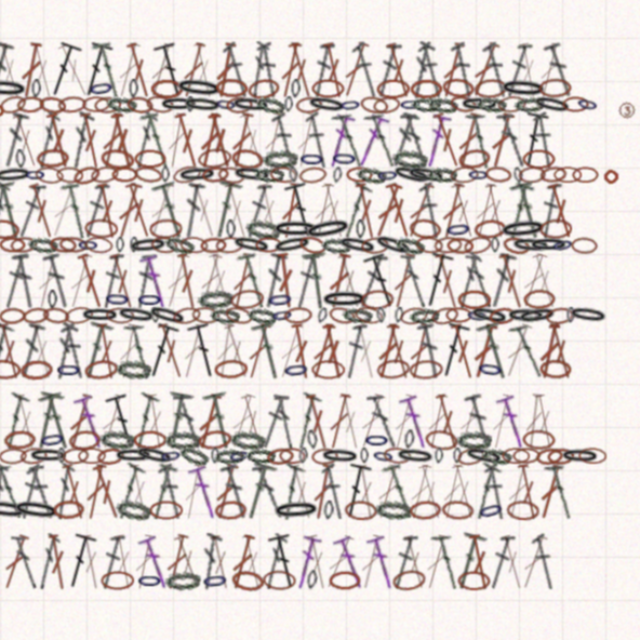chain: (320, 204, 367, 230), (50, 465, 97, 489), (201, 75, 247, 98), (21, 465, 67, 488), (384, 219, 423, 245), (501, 76, 547, 98), (501, 206, 547, 228), (401, 155, 440, 179), (175, 285, 214, 309), (21, 77, 67, 97), (291, 467, 337, 487), (163, 415, 202, 438), (531, 91, 570, 113), (351, 221, 390, 243), (473, 286, 512, 308), (468, 416, 507, 438), (253, 221, 292, 242), (291, 221, 330, 242), (291, 208, 336, 226), (336, 273, 381, 291), (146, 465, 181, 488), (266, 206, 301, 228), (323, 92, 361, 112), (415, 157, 453, 177), (518, 287, 556, 307), (402, 530, 435, 553), (132, 141, 165, 163), (252, 271, 285, 293), (117, 336, 150, 358), (222, 401, 255, 423), (432, 401, 465, 423), (254, 157, 292, 176), (147, 287, 185, 306), (565, 287, 603, 306), (222, 271, 256, 292), (204, 415, 235, 438), (268, 76, 300, 98), (253, 141, 285, 163), (463, 141, 495, 163), (253, 531, 285, 553), (222, 141, 255, 162), (208, 93, 246, 111), (253, 93, 291, 111), (33, 158, 71, 176), (158, 223, 196, 241), (512, 223, 550, 241), (405, 418, 443, 436), (282, 142, 316, 162), (402, 142, 436, 162), (252, 402, 286, 422), (192, 532, 226, 552), (448, 76, 480, 97), (388, 336, 420, 357), (480, 465, 508, 489), (418, 206, 449, 227), (478, 77, 510, 97), (373, 272, 405, 292), (418, 337, 450, 357), (358, 467, 390, 487), (191, 221, 221, 242), (204, 158, 241, 175), (147, 337, 180, 356), (132, 402, 165, 421), (387, 467, 420, 486), (28, 207, 59, 227), (478, 207, 509, 227), (58, 337, 89, 357), (43, 402, 74, 422), (103, 402, 134, 422), (238, 467, 269, 487), (418, 467, 449, 487), (448, 467, 479, 487), (508, 467, 539, 487), (106, 156, 134, 178), (275, 92, 305, 112), (404, 222, 434, 242), (192, 403, 225, 421), (462, 403, 495, 421), (508, 289, 545, 305), (336, 419, 373, 435), (558, 419, 595, 435), (538, 77, 569, 96), (73, 142, 104, 161), (118, 207, 149, 226), (178, 207, 209, 226), (28, 337, 59, 356), (238, 337, 269, 356), (523, 402, 554, 421), (88, 467, 119, 486), (283, 532, 314, 551), (38, 91, 66, 112), (199, 156, 227, 177), (315, 221, 343, 242), (468, 221, 496, 242), (239, 77, 269, 96), (539, 207, 569, 226), (524, 272, 554, 291), (539, 337, 569, 356), (120, 76, 147, 97), (480, 336, 507, 357), (75, 401, 102, 422), (372, 92, 400, 112), (199, 287, 227, 307), (247, 287, 275, 307), (409, 287, 437, 307), (462, 417, 490, 437), (328, 78, 359, 96), (388, 78, 419, 96), (523, 143, 554, 161), (463, 273, 494, 291), (328, 338, 359, 356), (163, 403, 194, 421), (178, 468, 209, 486), (133, 533, 164, 551), (463, 533, 494, 551), (187, 94, 224, 109), (465, 94, 502, 109), (529, 224, 566, 239), (114, 289, 151, 304), (66, 419, 103, 434), (145, 419, 182, 434), (179, 78, 209, 96), (419, 78, 449, 96), (164, 143, 194, 161), (504, 222, 531, 242), (343, 287, 370, 307), (438, 287, 465, 307), (344, 533, 374, 551), (174, 92, 202, 111), (123, 157, 151, 176), (163, 157, 191, 176), (99, 287, 127, 306), (367, 287, 395, 306), (435, 93, 464, 111), (369, 158, 398, 176), (268, 288, 297, 306), (418, 288, 447, 306), (485, 418, 514, 436), (451, 207, 477, 227), (286, 272, 312, 292), (301, 337, 327, 357), (226, 532, 252, 552), (455, 92, 482, 111), (138, 93, 167, 110), (480, 93, 509, 110), (515, 93, 544, 110), (65, 223, 94, 240), (356, 288, 385, 305), (75, 93, 102, 111), (156, 93, 183, 111), (384, 93, 411, 111), (72, 158, 99, 176), (316, 158, 343, 176), (60, 288, 87, 306), (491, 288, 518, 306), (544, 288, 571, 306), (346, 142, 371, 161), (136, 272, 161, 291), (241, 158, 267, 176), (79, 288, 105, 306), (129, 418, 155, 436), (286, 418, 312, 436), (535, 418, 561, 436), (93, 93, 120, 110), (500, 93, 527, 110), (456, 158, 483, 175), (94, 223, 121, 240), (118, 223, 145, 240), (206, 223, 233, 240), (239, 223, 266, 240), (441, 223, 468, 240), (217, 288, 244, 305), (302, 288, 329, 305), (394, 418, 421, 435), (316, 143, 341, 161), (166, 273, 191, 291), (91, 338, 116, 356), (376, 403, 401, 421), (166, 533, 191, 551), (337, 224, 365, 240), (234, 289, 262, 305), (238, 419, 266, 435), (55, 93, 81, 110), (226, 158, 252, 175), (289, 158, 315, 175), (488, 158, 514, 175), (519, 158, 545, 175), (539, 158, 565, 175), (49, 223, 75, 240), (85, 223, 111, 240), (179, 223, 205, 240), (424, 223, 450, 240), (58, 418, 84, 435), (97, 418, 123, 435), (572, 92, 595, 111), (549, 222, 572, 241), (250, 417, 273, 436), (420, 94, 448, 109), (275, 159, 303, 174), (435, 159, 463, 174), (267, 419, 295, 434), (313, 94, 339, 110), (374, 224, 400, 240), (138, 289, 164, 305), (39, 419, 65, 435), (470, 288, 493, 306), (383, 418, 406, 436), (127, 94, 152, 110), (249, 94, 274, 110), (92, 159, 117, 175), (225, 224, 250, 240), (453, 224, 478, 240), (568, 224, 593, 240), (39, 289, 64, 305), (328, 419, 353, 435), (546, 419, 571, 435), (116, 94, 142, 109), (552, 159, 578, 174), (112, 419, 138, 434), (504, 419, 530, 434), (514, 419, 540, 434), (575, 419, 601, 434), (560, 94, 585, 109), (143, 159, 168, 174), (360, 159, 385, 174), (569, 159, 594, 174), (39, 224, 64, 239), (276, 224, 301, 239), (452, 289, 477, 304), (298, 419, 323, 434), (238, 93, 260, 110), (290, 288, 312, 305), (187, 418, 209, 435), (353, 94, 375, 110), (388, 159, 409, 175), (409, 94, 430, 109), (62, 159, 83, 174), (472, 159, 493, 174), (111, 224, 132, 239), (323, 402, 335, 421), (413, 402, 424, 421), (323, 532, 334, 551), (332, 289, 344, 305), (54, 143, 64, 161), (339, 468, 349, 486), (514, 159, 525, 175), (69, 78, 78, 96), (159, 78, 168, 96), (309, 78, 318, 96), (249, 208, 258, 226), (369, 208, 378, 226), (84, 273, 93, 291), (347, 159, 357, 175), (404, 289, 414, 304), (307, 159, 316, 174), (179, 289, 188, 304), (388, 289, 397, 304), (316, 419, 325, 434), (212, 94, 220, 109), (303, 94, 311, 109), (189, 159, 197, 174), (147, 224, 155, 239), (160, 224, 168, 239), (494, 224, 502, 239), (564, 289, 572, 304), (93, 419, 101, 434), (235, 419, 243, 434), (373, 419, 381, 434), (442, 419, 450, 434), (459, 419, 467, 434)
double: (80, 42, 117, 98), (180, 172, 217, 228), (375, 237, 412, 293), (480, 302, 517, 358), (75, 367, 112, 423), (510, 302, 547, 357), (511, 172, 547, 228), (171, 302, 207, 358), (136, 367, 172, 423), (261, 432, 297, 488), (90, 43, 127, 97), (111, 42, 146, 98), (181, 42, 216, 98), (111, 302, 146, 358), (456, 497, 491, 553), (471, 42, 506, 97), (346, 107, 381, 162), (376, 107, 411, 162), (351, 172, 386, 227), (31, 432, 66, 487), (96, 497, 131, 552), (32, 172, 66, 228), (272, 302, 306, 358), (366, 108, 401, 162), (336, 498, 371, 552), (437, 107, 471, 162), (82, 172, 116, 227), (302, 172, 336, 227), (427, 237, 461, 292), (212, 302, 246, 357), (442, 302, 476, 357), (502, 302, 536, 357), (227, 367, 261, 422), (142, 432, 176, 487), (392, 432, 426, 487), (197, 497, 231, 552), (382, 173, 416, 227), (122, 433, 156, 487), (347, 498, 381, 552), (352, 42, 385, 97), (152, 172, 185, 227), (232, 172, 265, 227), (517, 237, 550, 292), (182, 302, 215, 357), (67, 367, 100, 422), (367, 367, 400, 422), (287, 497, 320, 552), (542, 43, 575, 97), (412, 173, 445, 227), (107, 368, 140, 422), (167, 498, 200, 552), (517, 498, 550, 552), (168, 107, 200, 162), (173, 172, 205, 227), (213, 172, 245, 227), (393, 172, 425, 227), (503, 172, 535, 227), (188, 367, 220, 422), (248, 367, 280, 422), (173, 432, 205, 487), (353, 432, 385, 487), (473, 432, 505, 487), (173, 43, 205, 97), (393, 43, 425, 97), (48, 108, 80, 162), (258, 108, 290, 162), (143, 173, 175, 227), (543, 173, 575, 227), (108, 238, 140, 292), (528, 238, 560, 292), (243, 303, 275, 357), (408, 368, 440, 422), (498, 368, 530, 422), (213, 433, 245, 487), (38, 498, 70, 552), (518, 107, 549, 162), (258, 237, 289, 292), (38, 367, 69, 422), (158, 367, 189, 422), (308, 367, 339, 422), (543, 432, 574, 487), (438, 497, 469, 552), (153, 43, 184, 97), (303, 43, 334, 97), (198, 108, 229, 162), (398, 108, 429, 162), (63, 173, 94, 227), (333, 173, 364, 227), (453, 173, 484, 227), (138, 238, 169, 292), (168, 238, 199, 292), (188, 238, 219, 292), (348, 238, 379, 292), (498, 238, 529, 292), (293, 303, 324, 357), (323, 303, 354, 357), (453, 303, 484, 357), (473, 303, 504, 357), (128, 368, 159, 422), (218, 368, 249, 422), (243, 433, 274, 487), (273, 433, 304, 487), (383, 433, 414, 487), (423, 433, 454, 487), (378, 498, 409, 552), (428, 498, 459, 552), (124, 42, 154, 97), (24, 302, 54, 357), (63, 433, 94, 486), (24, 43, 54, 97), (34, 43, 64, 97), (64, 43, 94, 97), (204, 43, 234, 97), (79, 108, 109, 162), (229, 108, 259, 162), (339, 108, 369, 162), (489, 108, 519, 162), (244, 173, 274, 227), (79, 238, 109, 292), (99, 238, 129, 292), (219, 238, 249, 292), (229, 238, 259, 292), (439, 238, 469, 292), (489, 238, 519, 292), (34, 303, 64, 357), (64, 303, 94, 357), (154, 303, 184, 357), (264, 303, 294, 357), (394, 303, 424, 357), (544, 303, 574, 357), (99, 368, 129, 422), (259, 368, 289, 422), (319, 368, 349, 422), (379, 368, 409, 422), (439, 368, 469, 422), (459, 368, 489, 422), (469, 368, 499, 422), (234, 433, 264, 487), (304, 433, 334, 487), (454, 433, 484, 487), (534, 433, 564, 487), (249, 498, 279, 552), (499, 498, 529, 552), (244, 43, 274, 96), (369, 238, 399, 291), (144, 43, 173, 97), (444, 43, 473, 97), (534, 43, 563, 97), (39, 108, 68, 162), (139, 108, 168, 162), (249, 108, 278, 162), (429, 108, 458, 162), (459, 108, 488, 162), (499, 108, 528, 162), (444, 173, 473, 227), (474, 173, 503, 227), (319, 238, 348, 292), (339, 238, 368, 292), (399, 238, 428, 292), (54, 303, 83, 357), (204, 303, 233, 357), (364, 303, 393, 357), (384, 303, 413, 357), (414, 303, 443, 357), (339, 368, 368, 422), (399, 368, 428, 422), (94, 433, 123, 487), (414, 433, 443, 487), (504, 433, 533, 487), (189, 498, 218, 552), (309, 498, 338, 552), (369, 498, 398, 552), (409, 498, 438, 552), (364, 43, 393, 96), (54, 173, 83, 226), (279, 368, 308, 421), (415, 43, 443, 97), (100, 108, 128, 162), (110, 108, 138, 162), (130, 108, 158, 162), (220, 108, 248, 162), (410, 108, 438, 162), (470, 108, 498, 162), (95, 173, 123, 227), (275, 173, 303, 227), (325, 173, 353, 227), (70, 238, 98, 292), (250, 238, 278, 292), (85, 303, 113, 357), (50, 368, 78, 422), (200, 368, 228, 422), (350, 368, 378, 422), (430, 368, 458, 422), (490, 368, 518, 422), (295, 433, 323, 487), (230, 498, 258, 552), (425, 43, 453, 96), (485, 43, 513, 96), (505, 43, 533, 96), (470, 238, 498, 291), (55, 43, 82, 97), (215, 43, 242, 97), (295, 43, 322, 97), (335, 43, 362, 97), (280, 108, 307, 162), (310, 108, 337, 162), (365, 173, 392, 227), (485, 173, 512, 227), (50, 238, 77, 292), (200, 238, 227, 292), (280, 238, 307, 292), (145, 303, 172, 357), (335, 303, 362, 357), (425, 303, 452, 357), (535, 303, 562, 357), (115, 433, 142, 487), (325, 433, 352, 487), (445, 433, 472, 487), (515, 433, 542, 487), (160, 498, 187, 552), (260, 498, 287, 552), (320, 498, 347, 552), (470, 498, 497, 552), (290, 108, 317, 161), (115, 173, 142, 226), (265, 173, 292, 226), (410, 238, 437, 291), (460, 238, 487, 291), (95, 303, 122, 356), (185, 433, 212, 486), (50, 498, 77, 551), (490, 498, 517, 551), (530, 498, 557, 551), (236, 43, 262, 97), (516, 43, 542, 97), (126, 173, 152, 227), (296, 173, 322, 227), (531, 368, 557, 422), (156, 433, 182, 487), (206, 433, 232, 487), (111, 498, 137, 552), (141, 498, 167, 552), (386, 43, 412, 96), (71, 108, 97, 161), (161, 108, 187, 161), (321, 108, 347, 161), (41, 238, 67, 291), (336, 433, 362, 486), (71, 498, 97, 551), (281, 498, 307, 551), (401, 498, 427, 551), (191, 108, 216, 162), (206, 173, 231, 227), (126, 303, 151, 357), (236, 303, 261, 357), (306, 303, 331, 357), (171, 368, 196, 422), (366, 433, 391, 487), (81, 498, 106, 552), (456, 43, 481, 96), (426, 173, 451, 226), (311, 238, 336, 291), (56, 433, 81, 486), (131, 498, 156, 551), (221, 498, 246, 551), (292, 238, 316, 291), (522, 368, 546, 421), (487, 433, 511, 486), (277, 43, 300, 96), (327, 43, 350, 96), (532, 108, 555, 161), (27, 173, 50, 226), (132, 238, 155, 291), (357, 303, 380, 356), (268, 43, 290, 96), (538, 173, 560, 226), (163, 238, 185, 291), (88, 433, 110, 486), (293, 368, 314, 421), (29, 433, 48, 486)
noise: (0, 563, 20, 590), (610, 97, 630, 117), (597, 160, 614, 177), (25, 342, 40, 357), (32, 101, 44, 113)
